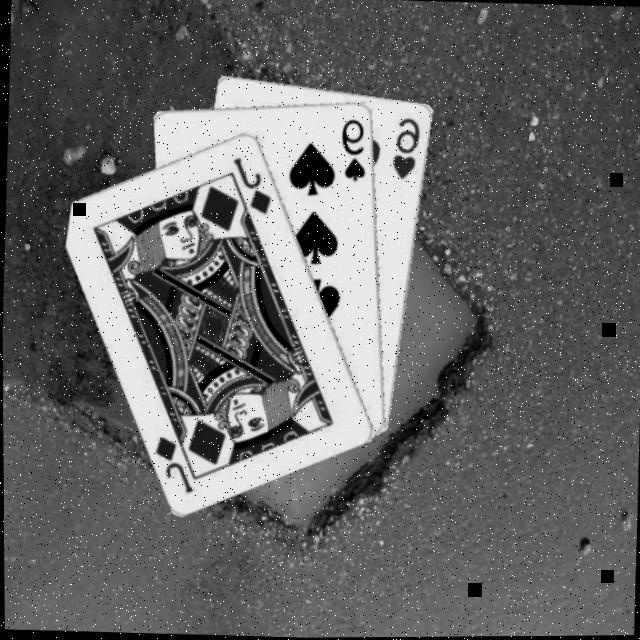6H: (388, 115, 422, 184)
9S: (336, 117, 368, 186)
JD: (148, 433, 196, 499), (226, 155, 274, 219)
